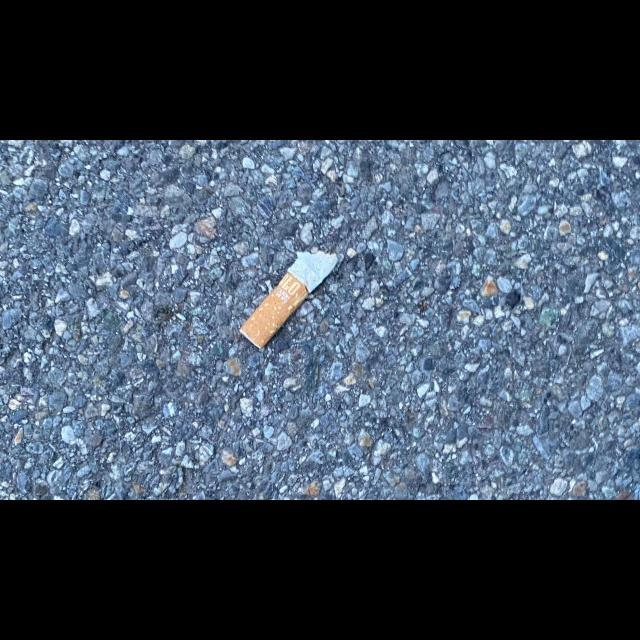cigarette: (236, 250, 340, 351)
